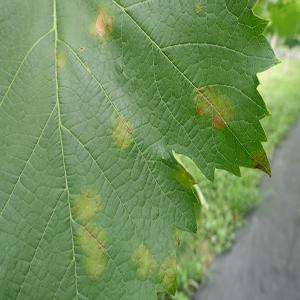Folha: (0, 0, 280, 299)
Fungo: (79, 222, 112, 278), (193, 84, 233, 130), (71, 185, 102, 220), (110, 115, 134, 151), (158, 251, 179, 291), (134, 243, 157, 278), (95, 7, 113, 38), (95, 9, 105, 36), (56, 49, 66, 68), (212, 114, 222, 130), (107, 16, 112, 30), (196, 3, 202, 13), (198, 108, 204, 117)
